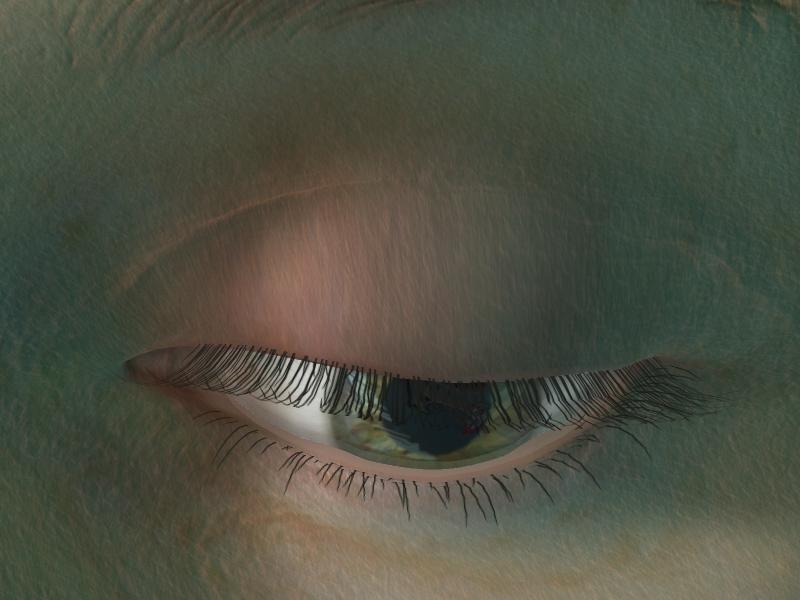eye: (337, 367, 540, 458)
